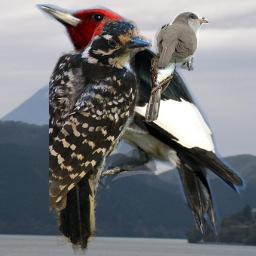Cuckoo: (154, 11, 209, 71), (145, 48, 181, 122)
Woodpecker: (33, 4, 251, 243), (49, 16, 152, 255)
